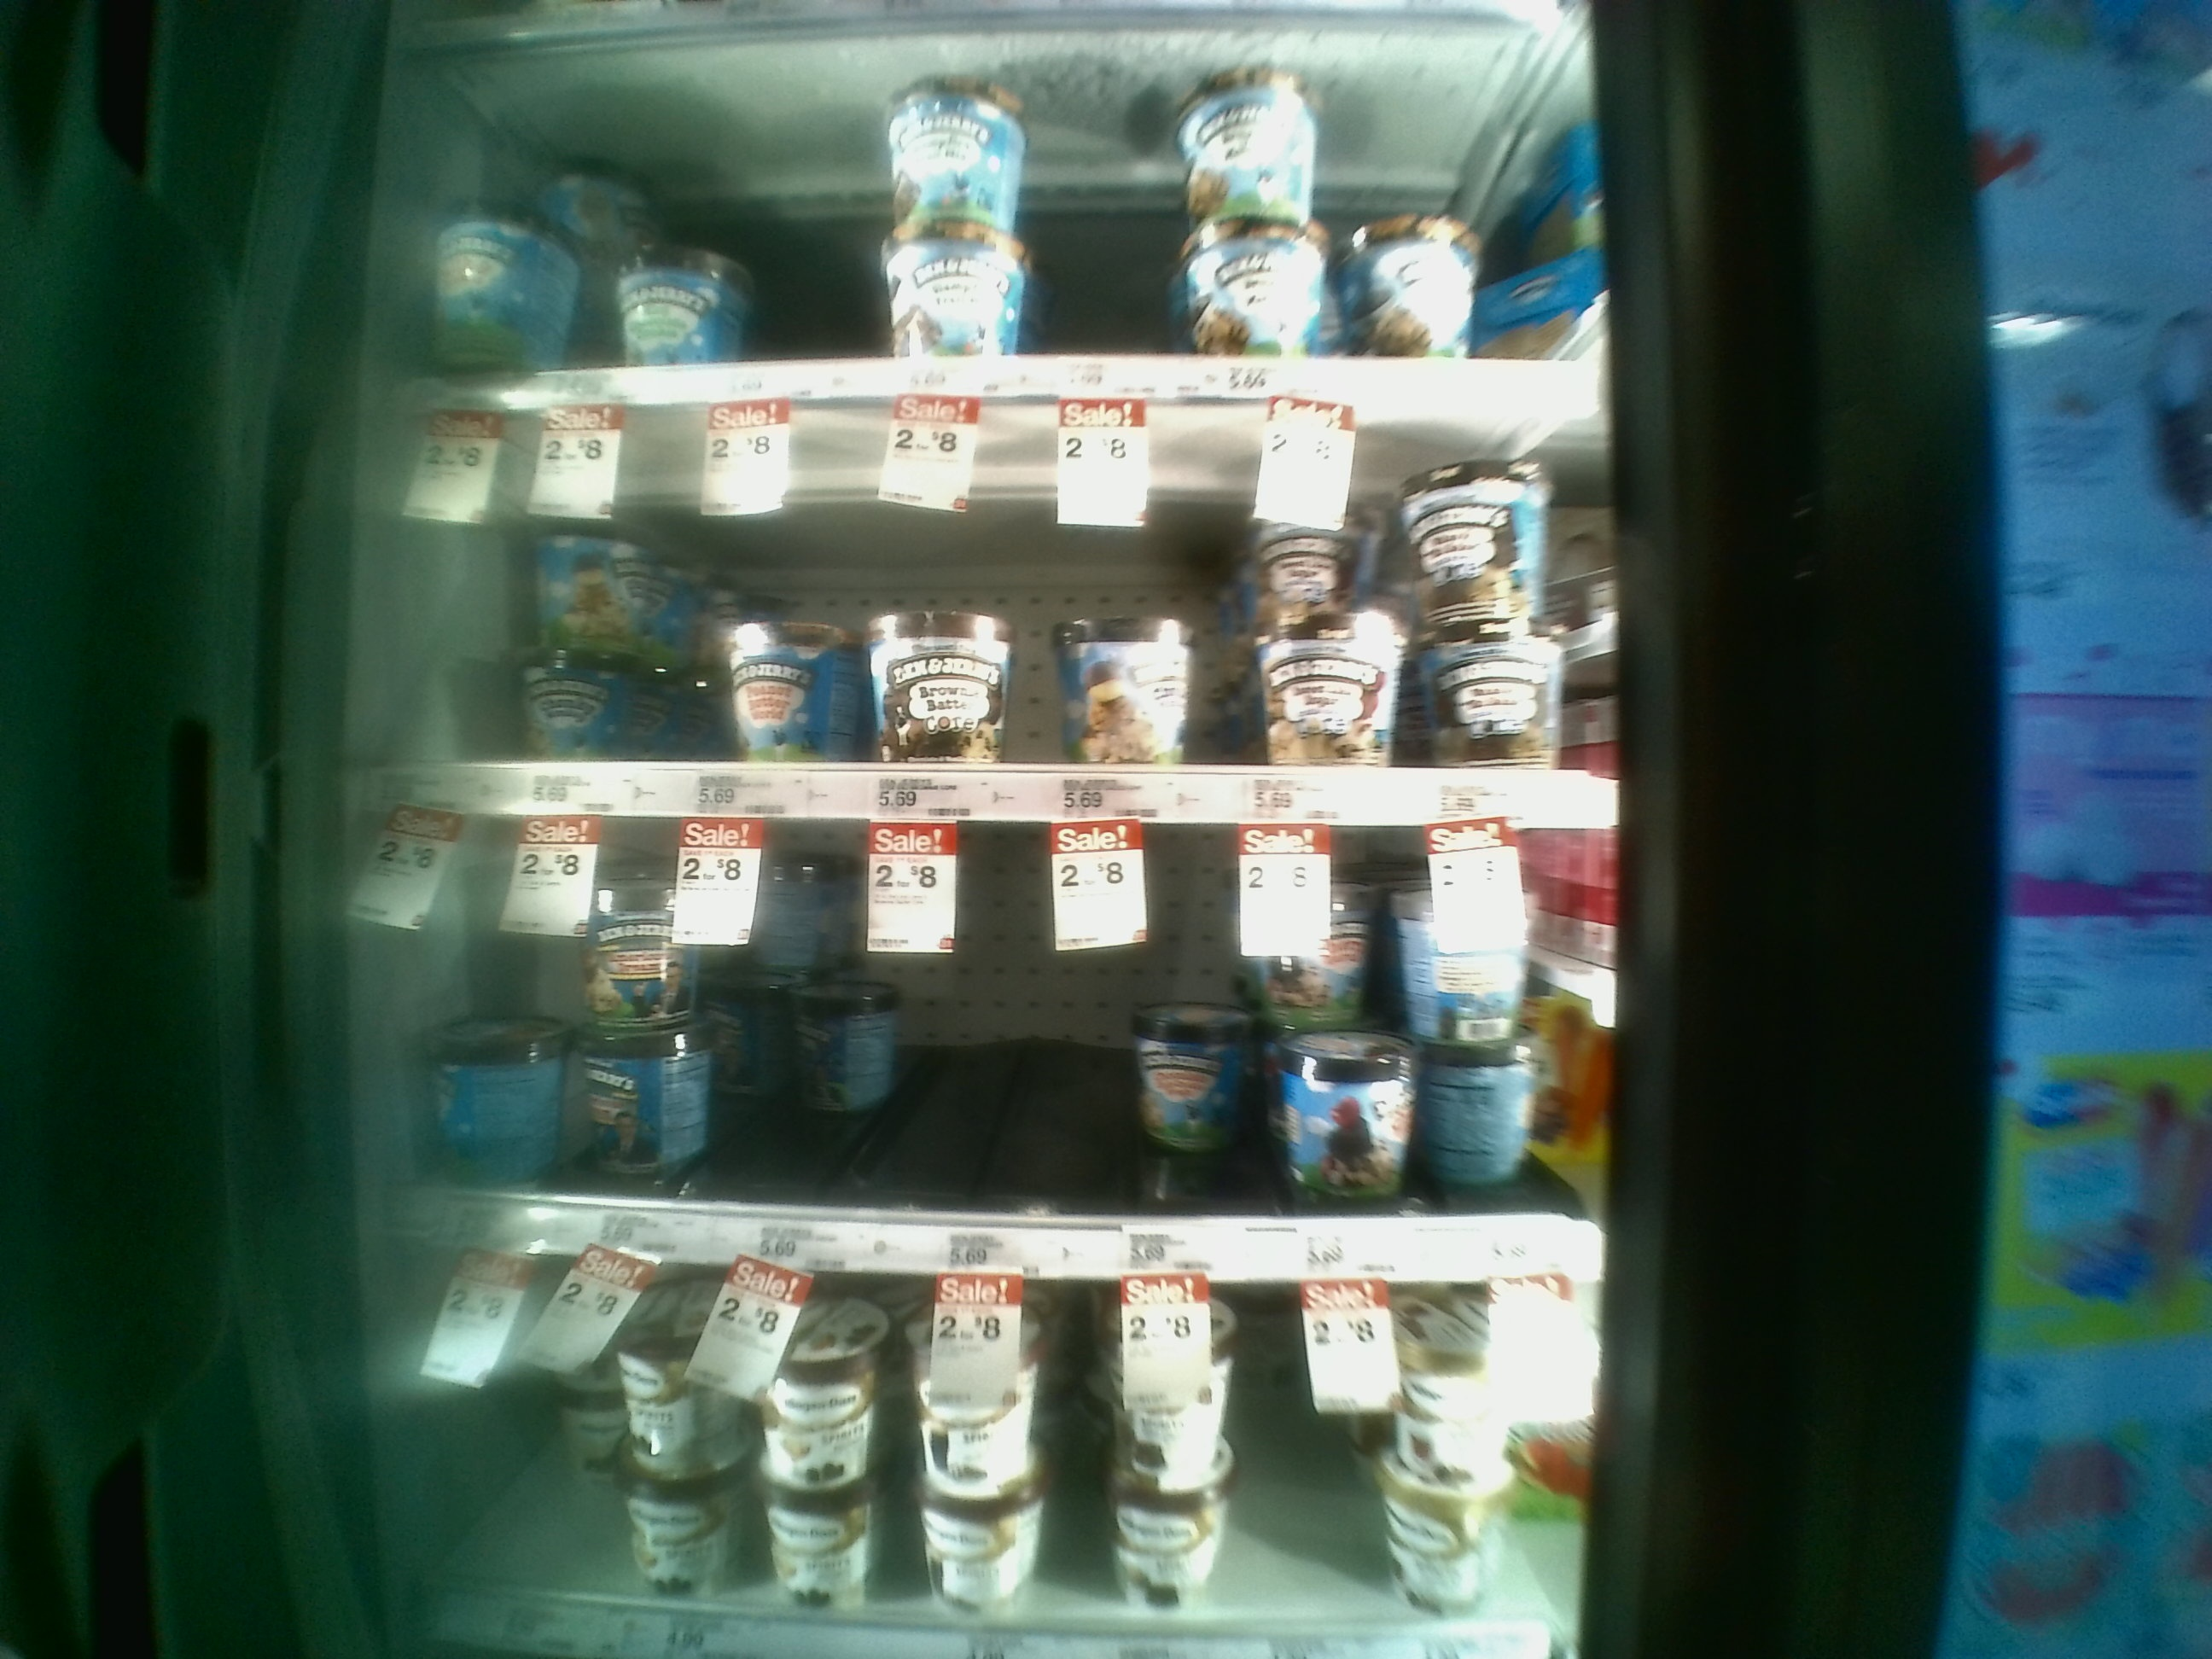shelf: (387, 829, 1604, 1274), (381, 404, 1627, 824)
